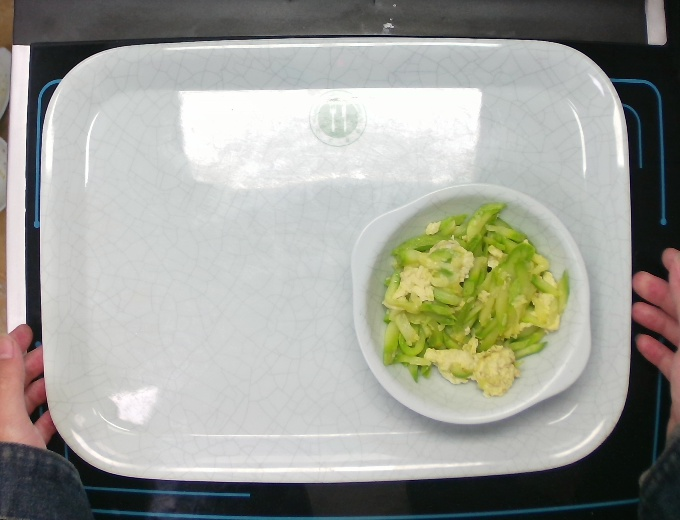JYsf-Shuang_Er_Wan: (347, 176, 596, 427)
